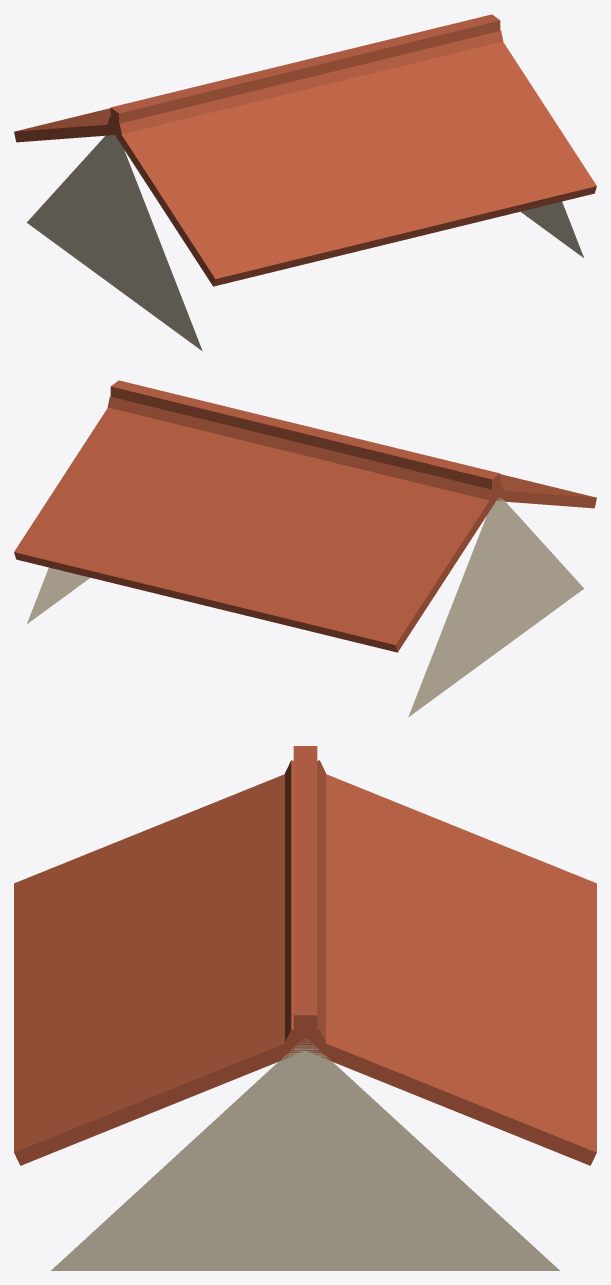
Rendered from arch.roof-pitch.glb.
The picture shows the model from 3 angles, top to bottom: view 1: azimuth 30°, elevation 25°; view 2: azimuth 150°, elevation 25°; view 3: azimuth 270°, elevation 25°; orthographic projection. The views are drawn at different scales.
Visible parts, largest first — view 1: arch.roof-pitch; view 2: arch.roof-pitch; view 3: arch.roof-pitch.
Boxes of the visible parts, left/top/right/bottom form: arch.roof-pitch: left=14, top=14, right=596, bottom=350; arch.roof-pitch: left=14, top=380, right=596, bottom=716; arch.roof-pitch: left=14, top=746, right=596, bottom=1270.
Bounding box in the file's own units: 4 × 1.77 × 3.66.
